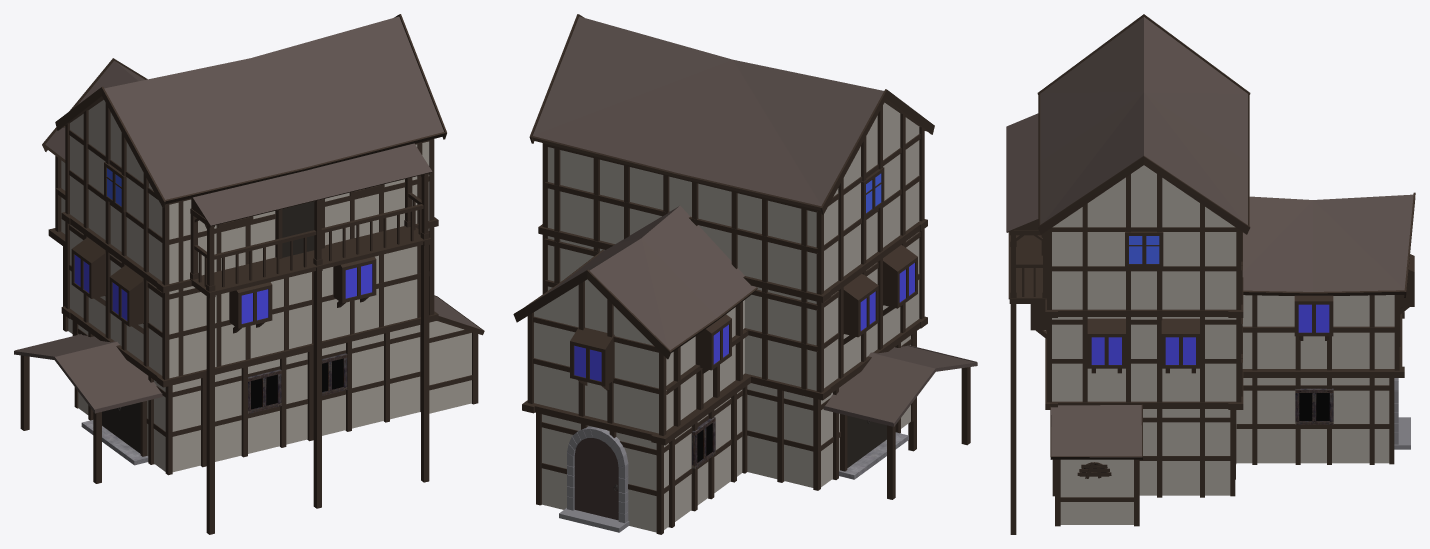
The model's file is House_Cap_5.glb.
3 views of the same model, side by side, from view 1: azimuth 30°, elevation 25°; view 2: azimuth 150°, elevation 25°; view 3: azimuth 270°, elevation 25° (orthographic). The views are drawn at different scales.
Parts seen in each view (by area): view 1: House_Cap_5; view 2: House_Cap_5; view 3: House_Cap_5.
Part boxes in pixels (bbox=[...]): House_Cap_5: bbox=[14, 14, 484, 534]; House_Cap_5: bbox=[513, 14, 977, 534]; House_Cap_5: bbox=[1006, 14, 1415, 534].
Bounding box in the file's own units: 8.29 × 8.45 × 7.88.
Materials: 31 (31 with a texture image).
